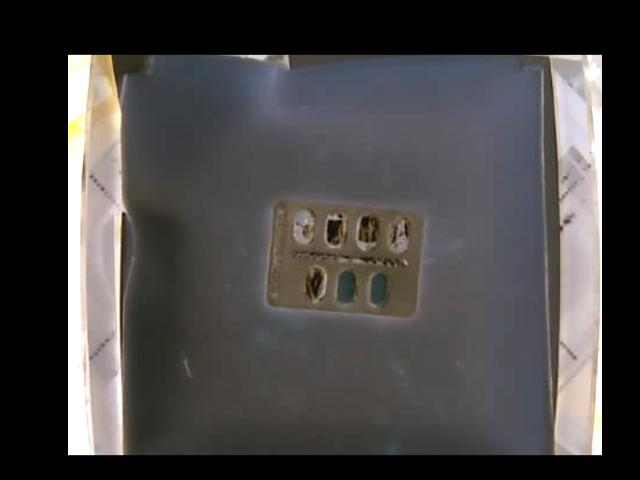Medicine: (264, 199, 424, 317)
